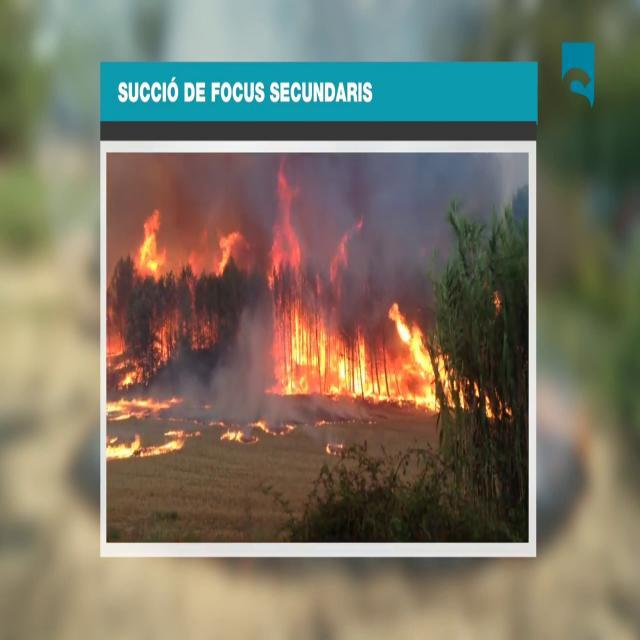Fire: (266, 291, 456, 409), (108, 311, 182, 391), (262, 160, 312, 278), (103, 418, 186, 464), (132, 207, 174, 284), (201, 220, 245, 284)
